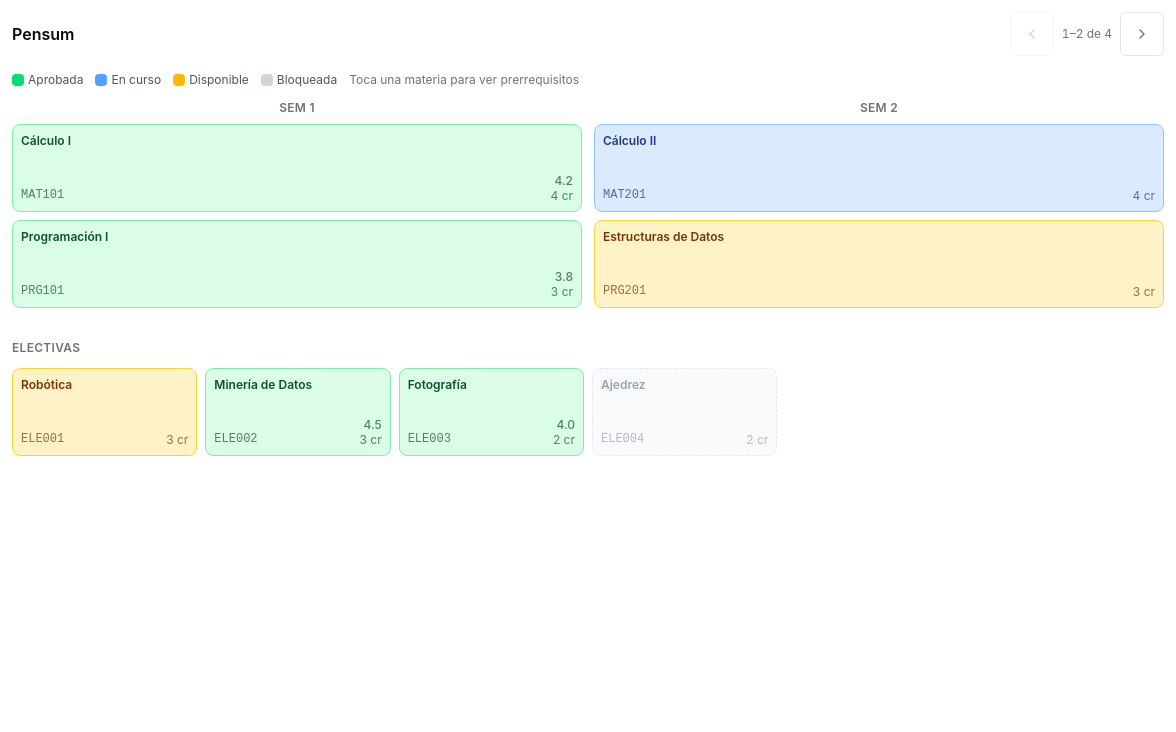
PensumGrid › muestra los prerrequisitos de la materia seleccionada y la deselecciona al repetir
Expected: the text "Toca una materia para ver prerrequisitos" is shown, [349,72,579,88]
Step 1. Click the text "MAT201" → point(625, 195), box [603,187,646,203]
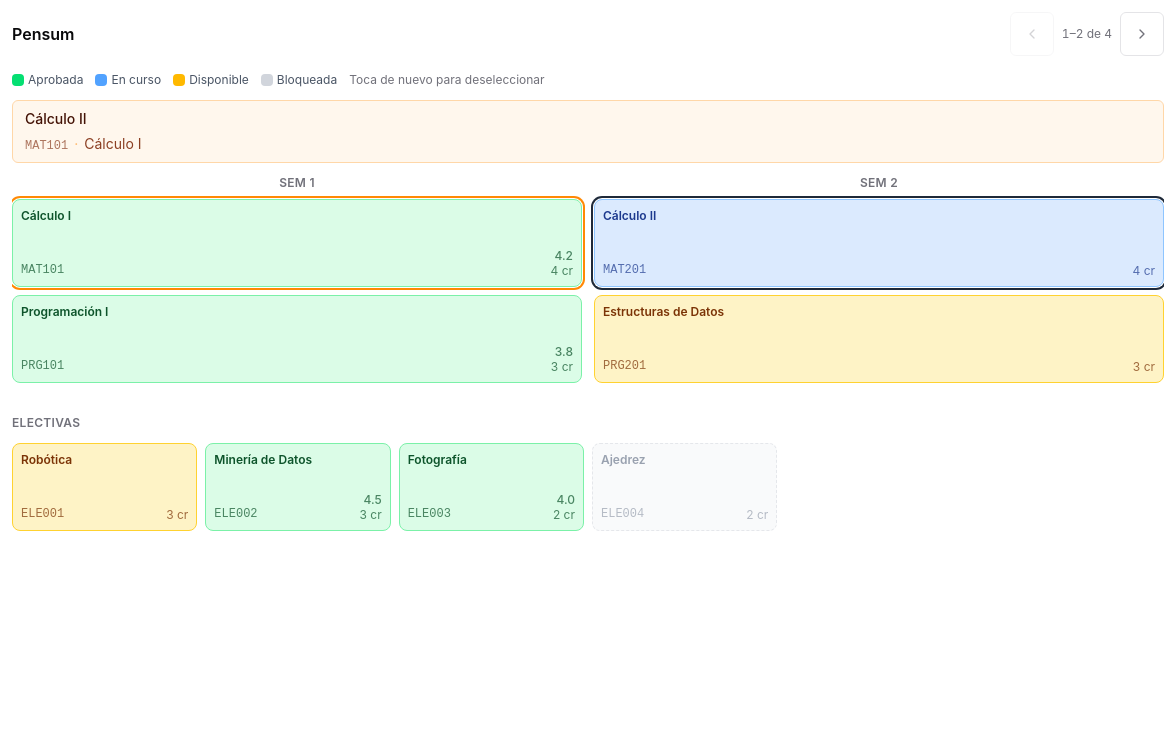
Expected: the 1st text "Cálculo II" is shown, [25,110,87,127]
Expected: the 1st text "MAT101" is shown, [25,139,68,153]
Expected: the list item "Cálculo I" is shown, [84,135,142,152]
Step 2. Click the text "MAT201" → point(625, 270), box [603,262,646,278]
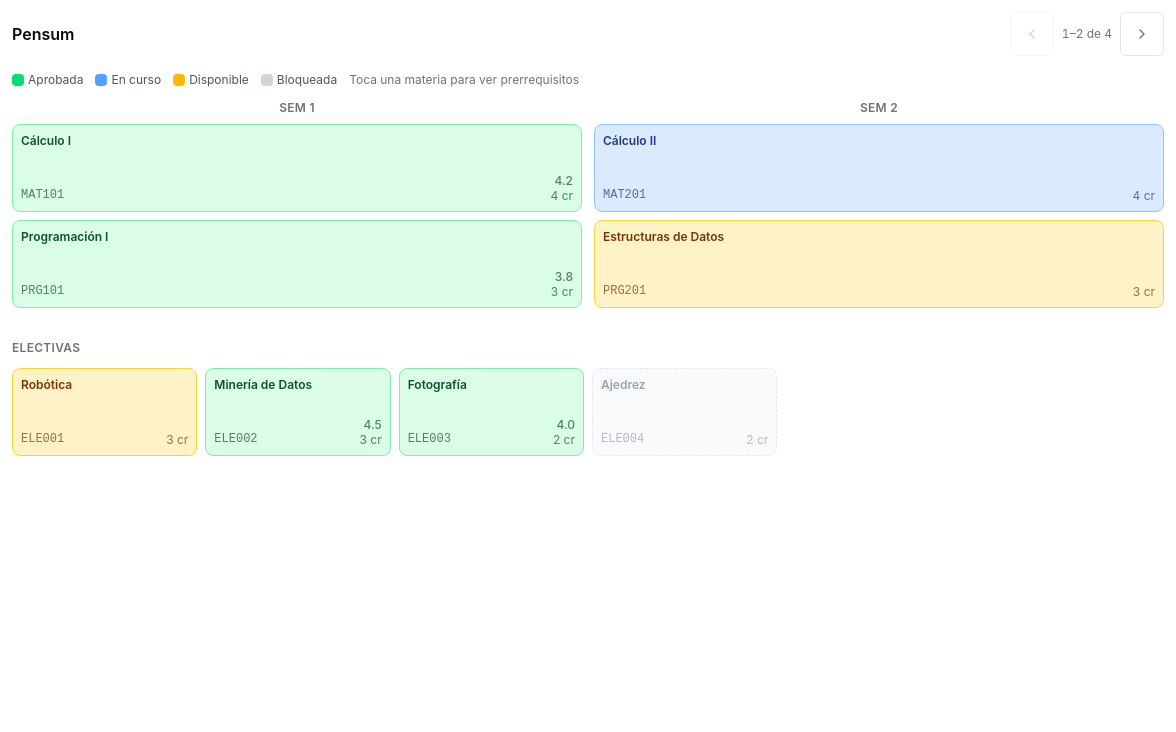
Expected: the message "Cálculo II MAT101·Cálculo I" is gone
